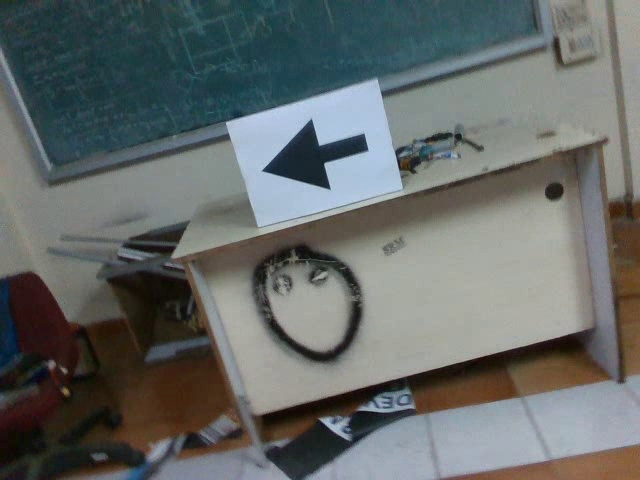Left: (255, 119, 371, 192)
